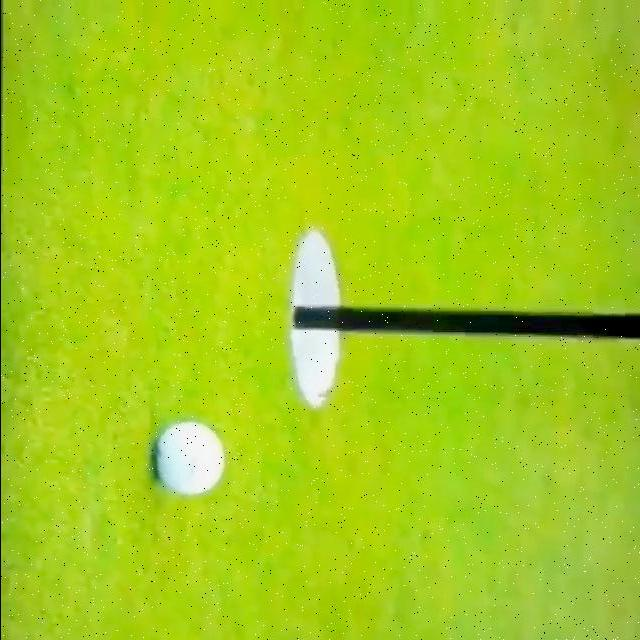golf ball: (154, 420, 227, 497)
